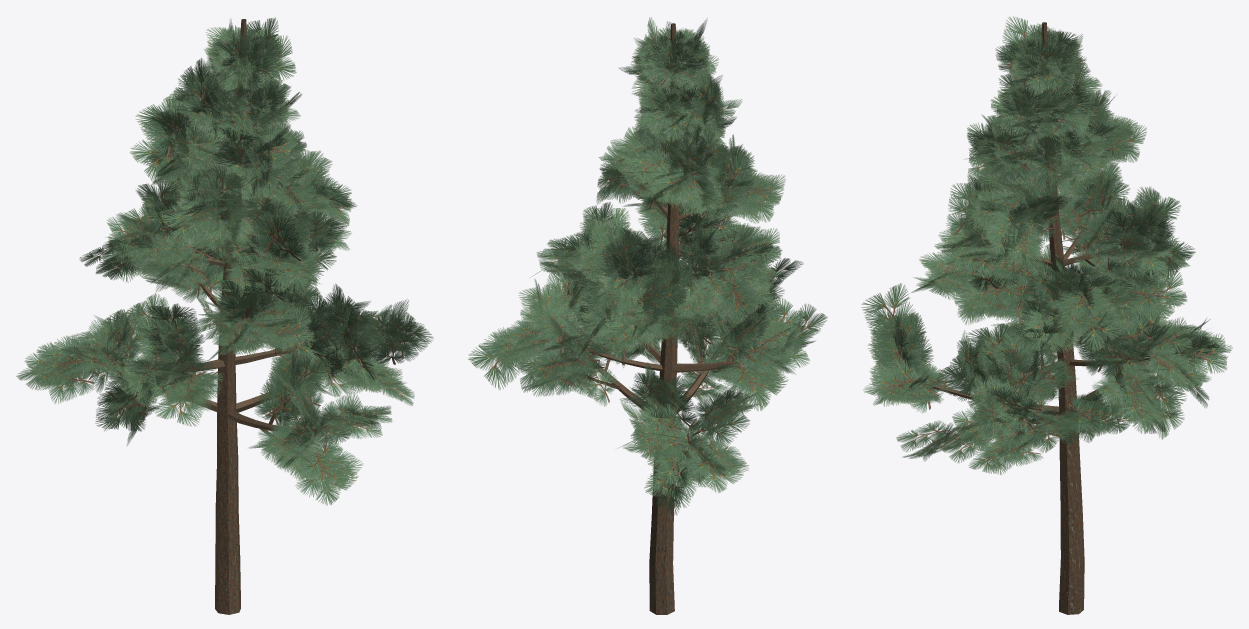
File: tree_pine.glb
3 renders of one model, left to right at view 1: azimuth 30°, elevation 25°; view 2: azimuth 150°, elevation 25°; view 3: azimuth 270°, elevation 25°, orthographic. The views are drawn at different scales.
Parts seen in each view (by area): view 1: v0_hi_leaf, v0_hi_bark; view 2: v0_hi_leaf, v0_hi_bark; view 3: v0_hi_leaf, v0_hi_bark.
Part boxes in pixels (x1,y1,x2,y2): v0_hi_leaf: (16,17,433,505); v0_hi_bark: (84,19,378,614); v0_hi_leaf: (468,17,827,515); v0_hi_bark: (537,23,777,614); v0_hi_leaf: (861,16,1232,474); v0_hi_bark: (912,22,1173,614).
Size of the model in its own units: 7.88 by 14.72 by 8.53.
Materials: 2 (2 with a texture image).
